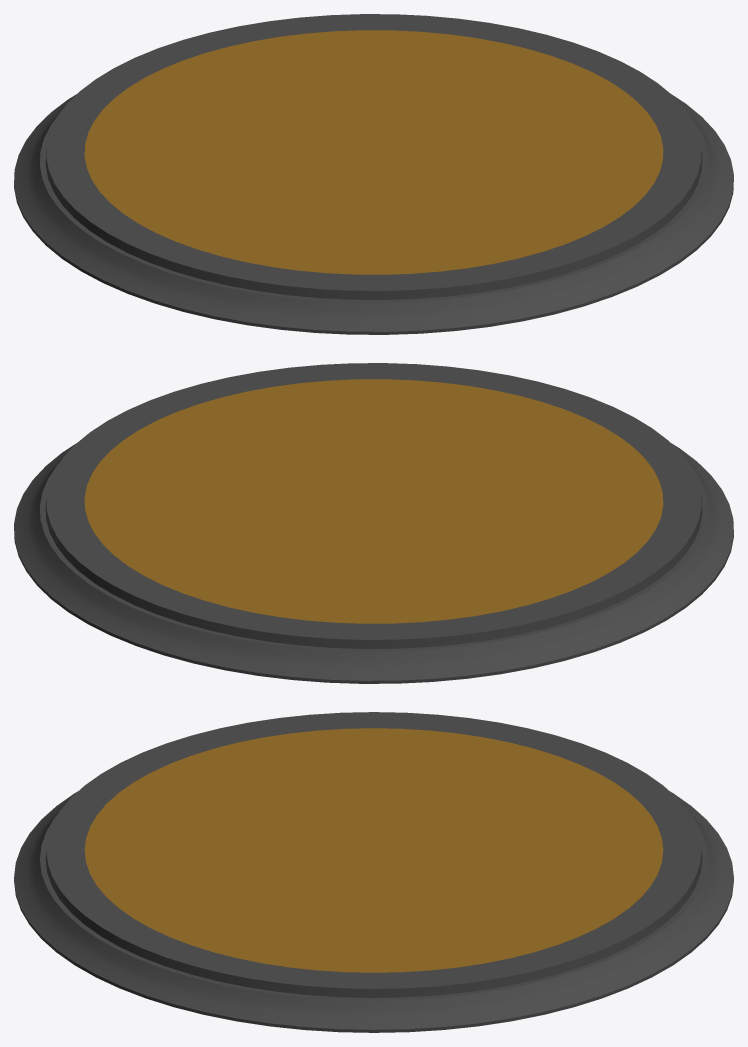
File: Plinth.FBX
The picture shows the model from 3 angles, top to bottom: view 1: azimuth 30°, elevation 25°; view 2: azimuth 150°, elevation 25°; view 3: azimuth 270°, elevation 25°; orthographic projection.
Visible parts, largest first — view 1: Plinth; view 2: Plinth; view 3: Plinth.
Boxes of the visible parts, box(x1,y1,x2,y2) form: Plinth: box(14, 14, 733, 334); Plinth: box(14, 363, 733, 683); Plinth: box(14, 712, 733, 1032).
Bounding box in the file's own units: 2.15 × 0.1 × 2.15.
